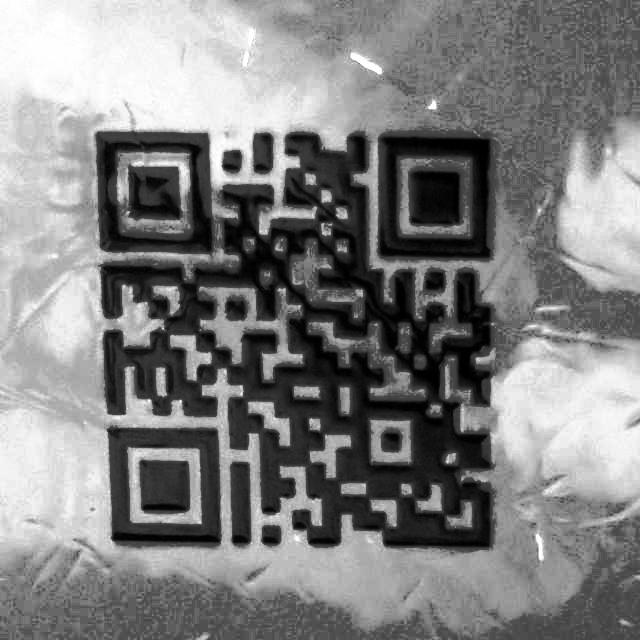qr_code: (69, 86, 506, 563)
